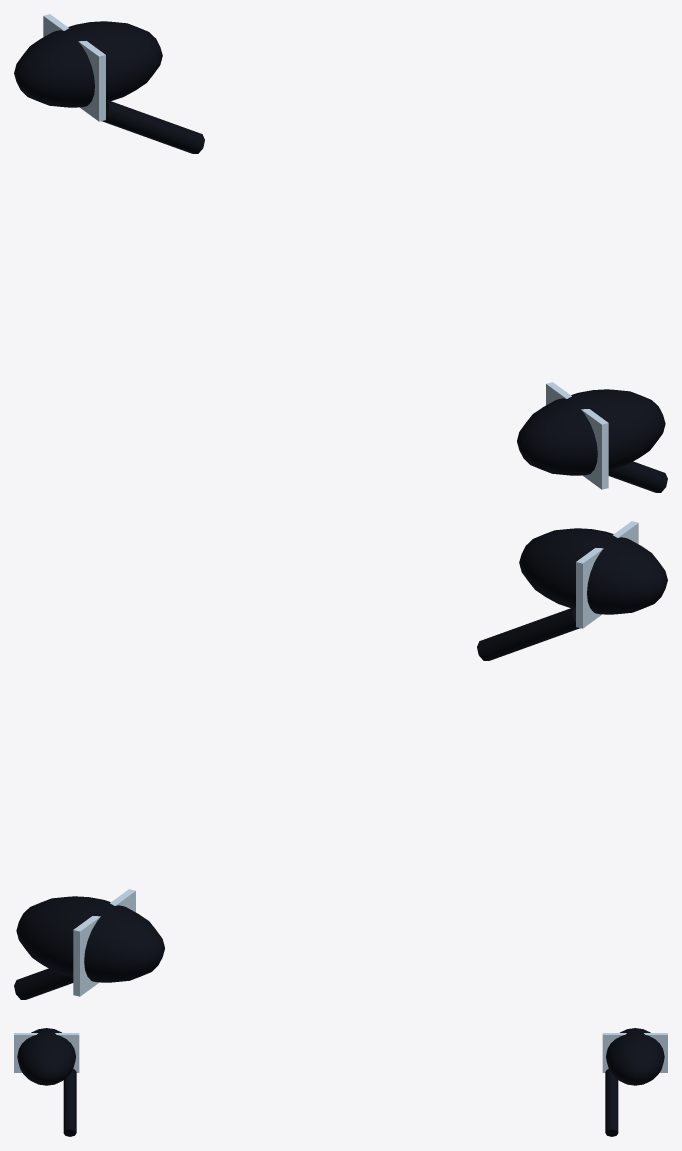
Rendered from mirrors.glb.
3 renders of one model, top to bottom at view 1: azimuth 30°, elevation 25°; view 2: azimuth 150°, elevation 25°; view 3: azimuth 270°, elevation 25°, orthographic. The views are drawn at different scales.
Visible parts, largest first — view 1: Side_Mirrors_Assembly; view 2: Side_Mirrors_Assembly; view 3: Side_Mirrors_Assembly.
Boxes of the visible parts, <box> form: Side_Mirrors_Assembly: <box>14,14,667,492</box>; Side_Mirrors_Assembly: <box>14,521,667,999</box>; Side_Mirrors_Assembly: <box>14,1028,667,1136</box>.
Size of the model in its own units: 0.2378 by 0.1811 by 1.4.
